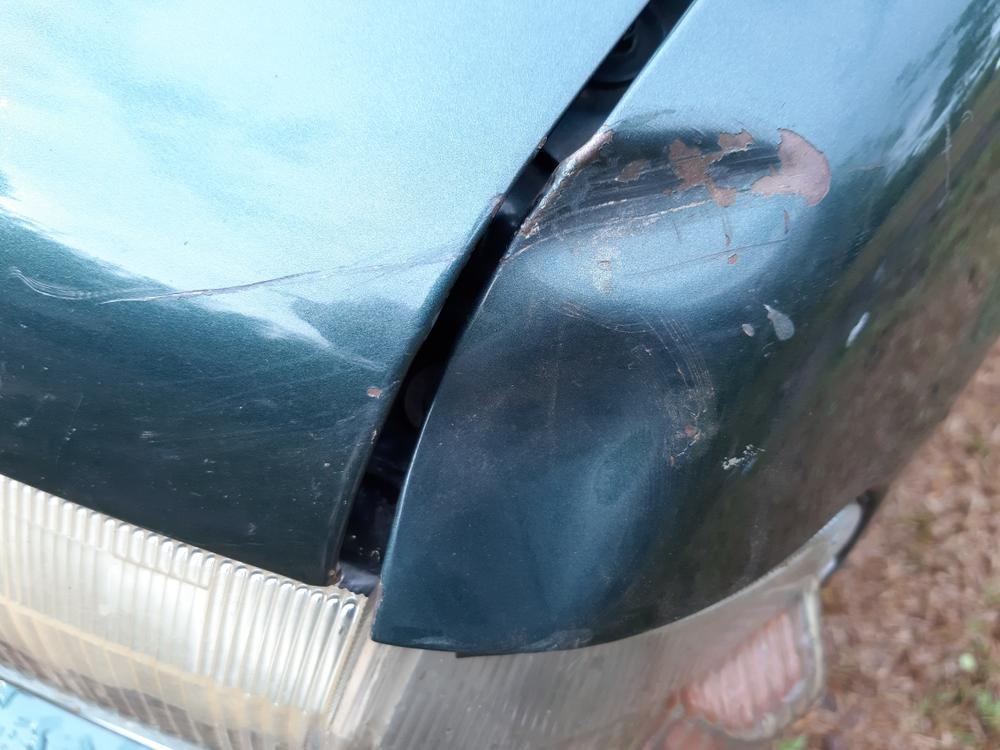dent: (408, 109, 826, 651)
scratch: (1, 244, 456, 498)
